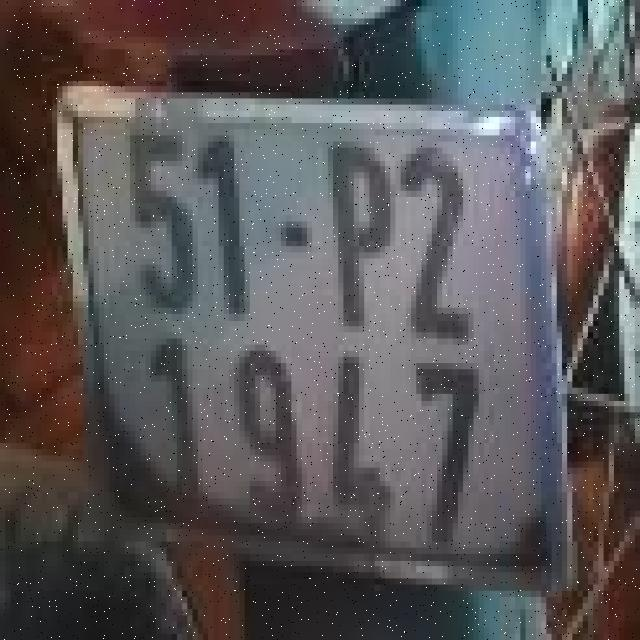1: (132, 326, 210, 511), (195, 120, 258, 323)
2: (395, 129, 479, 351)
4: (325, 342, 398, 550)
5: (120, 120, 198, 335)
7: (401, 354, 484, 557)
9: (226, 338, 310, 530)
P: (320, 130, 398, 332)
